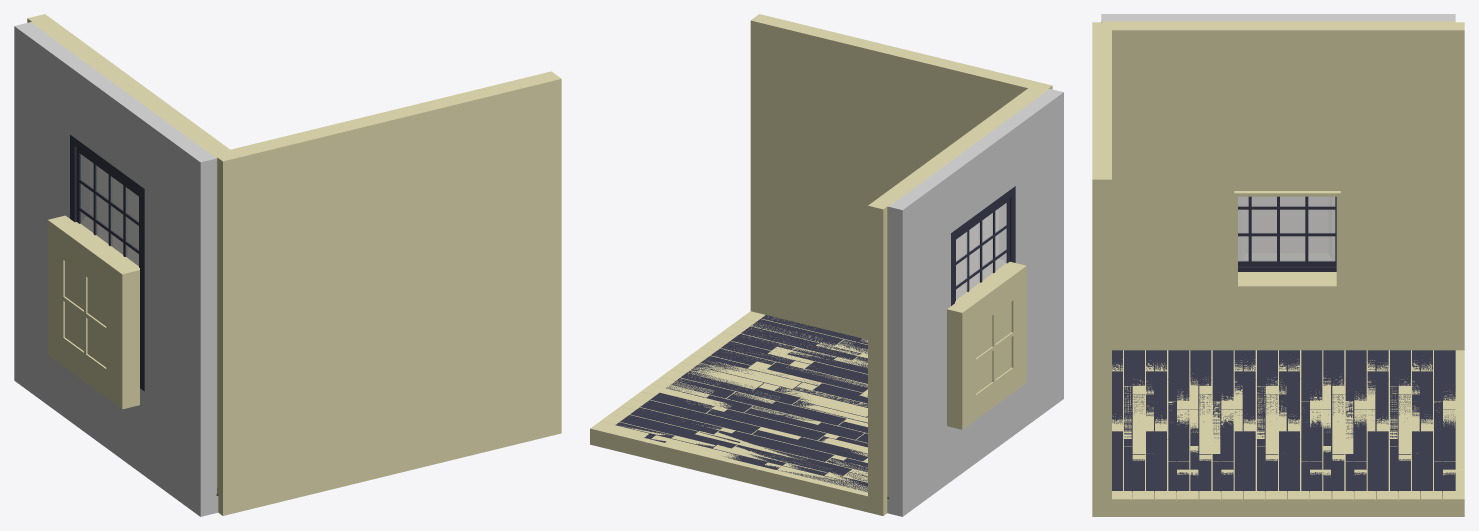
Rendered from room.glb.
3 renders of one model, left to right at view 1: azimuth 30°, elevation 25°; view 2: azimuth 150°, elevation 25°; view 3: azimuth 270°, elevation 25°, orthographic. The views are drawn at different scales.
Visible parts, largest first — view 1: Outside wall 03, Corner, Outside wall 02, Windows, Glass; view 2: Corner, Color wall 02, Outside wall 02, Wooden floor 01, Wooden floor 02, Outside wall 01, Windows, Outside wall 03, Glass, Color wall l01; view 3: Color wall l01, Corner, Wooden floor 02, Wooden floor 01, Outside wall 03, Outside wall 01, Windows, Outside wall 02, Color wall 02.
Boxes of the visible parts, bbox=[...] form: Outside wall 03: bbox=[223, 72, 561, 515]; Corner: bbox=[14, 22, 218, 516]; Outside wall 02: bbox=[27, 14, 229, 515]; Windows: bbox=[57, 244, 112, 385]; Glass: bbox=[65, 261, 106, 367]; Corner: bbox=[615, 89, 1063, 516]; Color wall 02: bbox=[750, 20, 1029, 339]; Outside wall 02: bbox=[869, 85, 1052, 515]; Wooden floor 01: bbox=[600, 311, 867, 484]; Wooden floor 02: bbox=[590, 318, 869, 497]; Outside wall 01: bbox=[590, 430, 882, 515]; Windows: bbox=[970, 286, 1018, 408]; Outside wall 03: bbox=[751, 14, 1051, 87]; Glass: bbox=[976, 302, 1011, 393]; Color wall l01: bbox=[868, 88, 1029, 496]; Color wall l01: bbox=[1110, 29, 1464, 350]; Corner: bbox=[1101, 14, 1455, 491]; Wooden floor 02: bbox=[1112, 350, 1464, 500]; Wooden floor 01: bbox=[1110, 350, 1464, 500]; Outside wall 03: bbox=[1092, 22, 1109, 516]; Outside wall 01: bbox=[1093, 500, 1464, 516]; Windows: bbox=[1234, 191, 1340, 289]; Outside wall 02: bbox=[1093, 22, 1464, 29]; Color wall 02: bbox=[1110, 30, 1111, 499].
Bounding box in the file's own units: 0.116 × 0.105 × 0.105.
